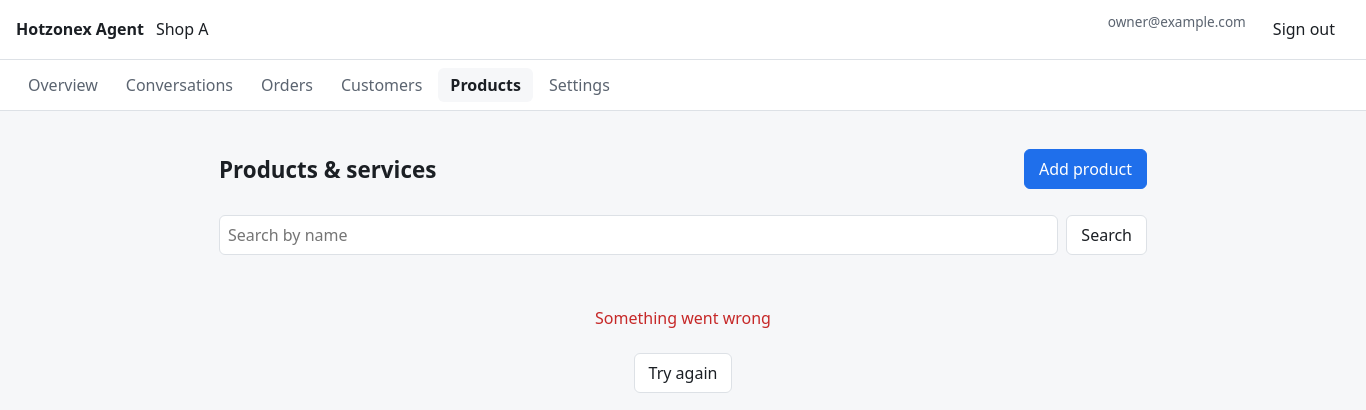
Scenario: products page › shows an error state and retries
Expected: the text "Something went wrong" is shown, [595,307,771,329]
Click the button "Try again": click(683, 373) [634,353,732,393]
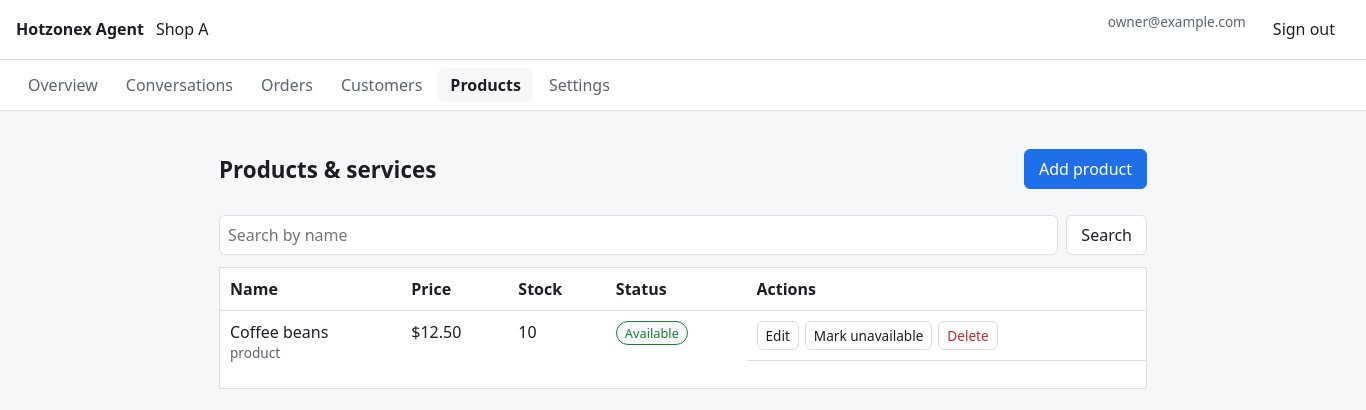
Now the text "Coffee beans" is shown, box [230,321,328,343]
